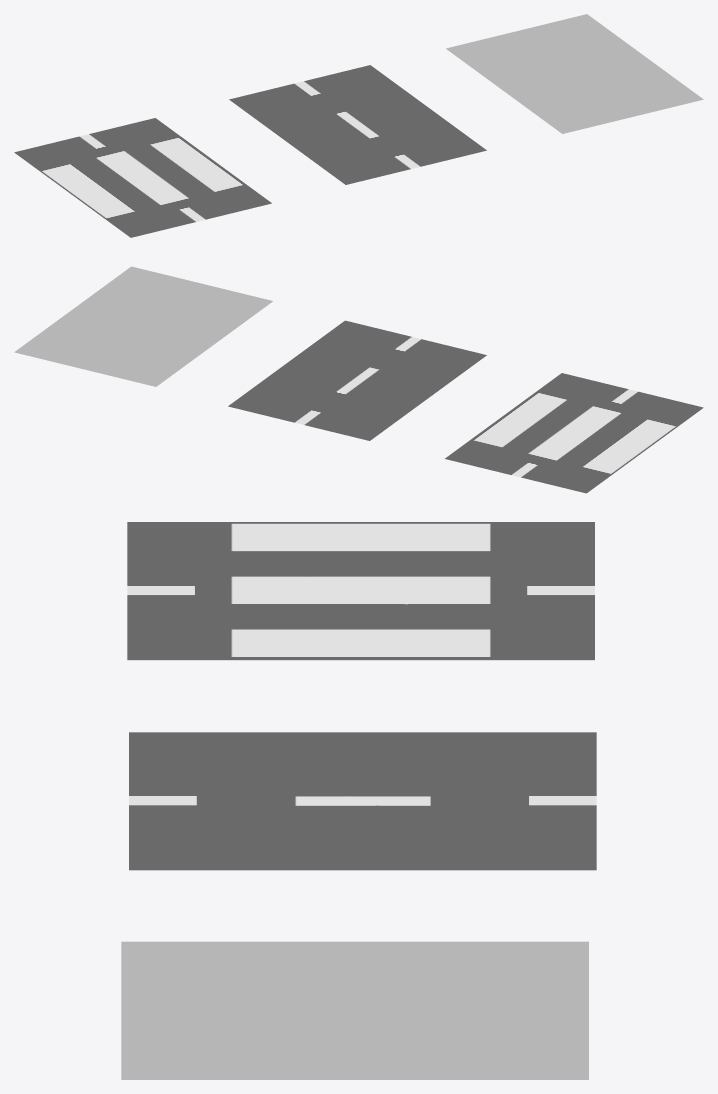
File: UliceTile.fbx
3 views of the same model, one above another, from view 1: azimuth 30°, elevation 25°; view 2: azimuth 150°, elevation 25°; view 3: azimuth 270°, elevation 25° (orthographic). The views are drawn at different scales.
Visible parts, largest first — view 1: Pesacki, Ravna, Cosak; view 2: Pesacki, Ravna, Cosak; view 3: Pesacki, Ravna, Cosak.
Boxes of the visible parts, <box> form: Pesacki: <box>14,118,271,237</box>; Ravna: <box>229,65,486,184</box>; Cosak: <box>446,14,703,133</box>; Pesacki: <box>445,373,703,493</box>; Ravna: <box>228,320,486,440</box>; Cosak: <box>14,266,272,386</box>; Pesacki: <box>127,522,594,660</box>; Ravna: <box>129,732,596,870</box>; Cosak: <box>121,941,588,1079</box>.
Bounding box in the file's own units: 5594 × 0.000323 × 2014.
